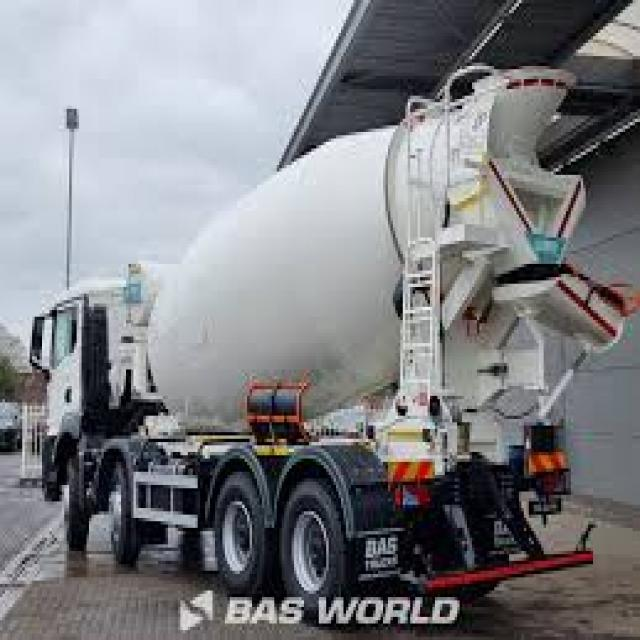Mixer Truck: (28, 60, 632, 625)
